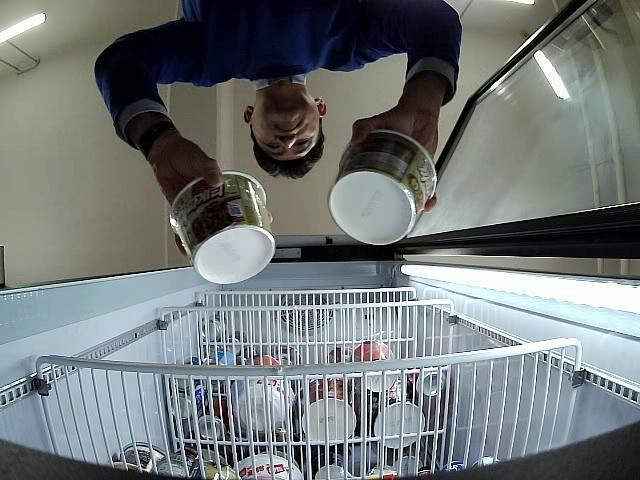03_chapagetti_L: (328, 130, 437, 246), (168, 171, 274, 285)
